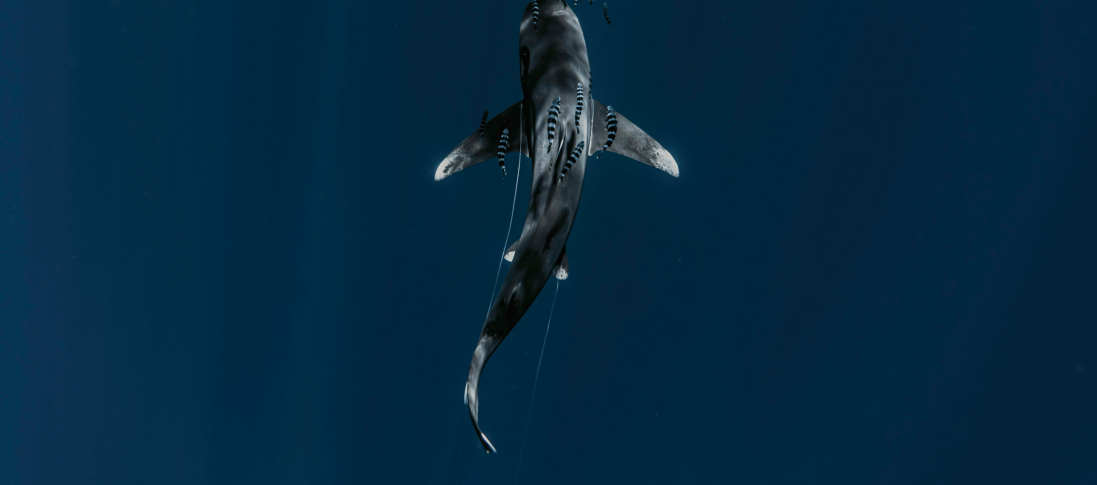fishLarge: (556, 138, 589, 186), (543, 92, 566, 160), (593, 101, 619, 160), (495, 122, 512, 183), (571, 77, 588, 137), (598, 2, 616, 37), (479, 105, 493, 147)
shark: (431, 0, 681, 457)
